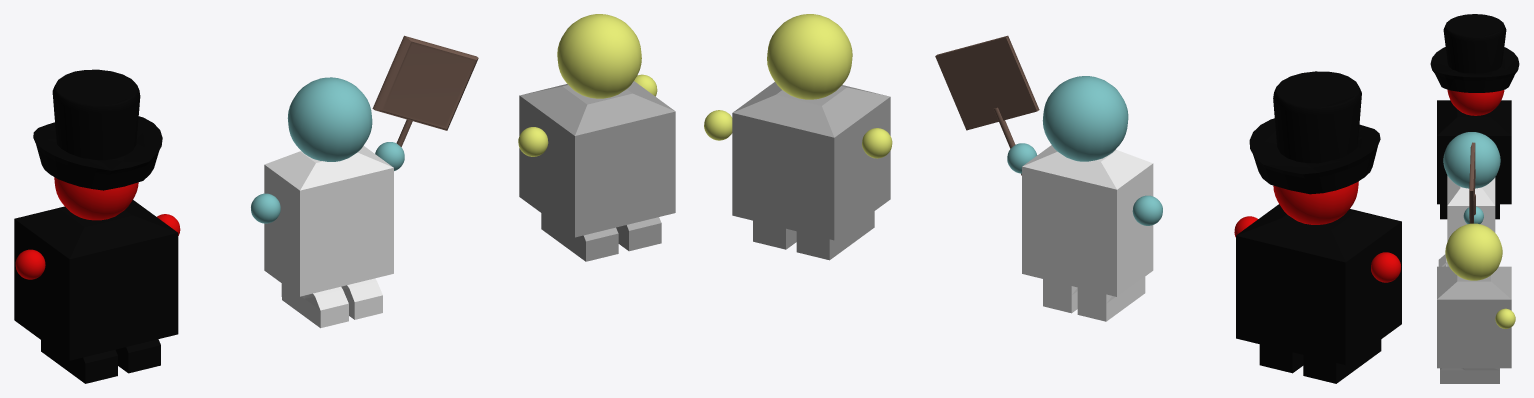
File: people.fbx
3 renders of one model, left to right at view 1: azimuth 30°, elevation 25°; view 2: azimuth 150°, elevation 25°; view 3: azimuth 270°, elevation 25°, orthographic. The views are drawn at different scales.
Visible parts, largest first — view 1: pasted__pCube1 (×2), pCube1, pCylinder1, pCylinder3, pasted__pasted__pSphere1, pasted__pSphere1, pasted__pCube2 (×3), pDisc1, pasted__pasted__pCube2 (×2), pSphere1, pCube2, pasted__pSphere2 (×2) (+2 smaller); view 2: pasted__pCube1 (×2), pCube1, pCylinder1, pCylinder3, pasted__pSphere1, pasted__pasted__pSphere1, pDisc1, pasted__pCube2 (×3), pSphere1, pasted__pasted__pCube2 (×2), pasted__pasted__pSphere2 (×2), pasted__pSphere2 (×2) (+2 smaller); view 3: pasted__pCube1 (×2), pCube1, pCylinder1, pasted__pasted__pSphere1, pasted__pSphere1, pDisc1, pSphere1, pasted__pasted__pCube2, pCylinder3, pasted__pasted__pSphere2, pasted__pSphere2, pasted__pCube2.
Part boxes in pixels (x1=…): pasted__pCube1 (×2): x1=264, y1=81, x2=675, y2=296; pCube1: x1=14, y1=200, x2=178, y2=360; pCylinder1: x1=52, y1=69, x2=140, y2=160; pCylinder3: x1=372, y1=35, x2=478, y2=146; pasted__pasted__pSphere1: x1=557, y1=14, x2=641, y2=98; pasted__pSphere1: x1=287, y1=77, x2=372, y2=161; pasted__pCube2 (×3): x1=115, y1=213, x2=618, y2=373; pDisc1: x1=33, y1=116, x2=162, y2=190; pasted__pasted__pCube2 (×2): x1=341, y1=217, x2=661, y2=319; pSphere1: x1=54, y1=177, x2=138, y2=220; pCube2: x1=41, y1=340, x2=117, y2=383; pasted__pSphere2 (×2): x1=375, y1=127, x2=548, y2=170; pasted__pCube1 (×2): x1=732, y1=82, x2=1153, y2=296; pCube1: x1=1236, y1=204, x2=1401, y2=365; pCylinder1: x1=1273, y1=71, x2=1361, y2=163; pCylinder3: x1=935, y1=35, x2=1039, y2=175; pasted__pSphere1: x1=1042, y1=76, x2=1128, y2=161; pasted__pasted__pSphere1: x1=767, y1=14, x2=852, y2=99; pDisc1: x1=1249, y1=118, x2=1380, y2=194; pasted__pCube2 (×3): x1=796, y1=211, x2=1303, y2=373; pSphere1: x1=1273, y1=181, x2=1358, y2=224; pasted__pasted__pCube2 (×2): x1=753, y1=220, x2=1077, y2=313; pasted__pasted__pSphere2 (×2): x1=704, y1=110, x2=1162, y2=225; pasted__pSphere2 (×2): x1=862, y1=128, x2=1037, y2=173; pasted__pCube1 (×2): x1=1437, y1=175, x2=1511, y2=368; pCube1: x1=1437, y1=100, x2=1511, y2=204; pCylinder1: x1=1443, y1=14, x2=1506, y2=73; pasted__pasted__pSphere1: x1=1445, y1=223, x2=1502, y2=280; pasted__pSphere1: x1=1443, y1=132, x2=1500, y2=188; pDisc1: x1=1430, y1=47, x2=1519, y2=92; pSphere1: x1=1447, y1=89, x2=1504, y2=115; pasted__pasted__pCube2: x1=1440, y1=368, x2=1499, y2=383; pCylinder3: x1=1469, y1=142, x2=1475, y2=223; pasted__pasted__pSphere2: x1=1495, y1=308, x2=1515, y2=328; pasted__pSphere2: x1=1463, y1=206, x2=1483, y2=223; pasted__pCube2: x1=1440, y1=204, x2=1499, y2=219.
Size of the model in its own units: 11.32 by 4.4 by 1.96.
